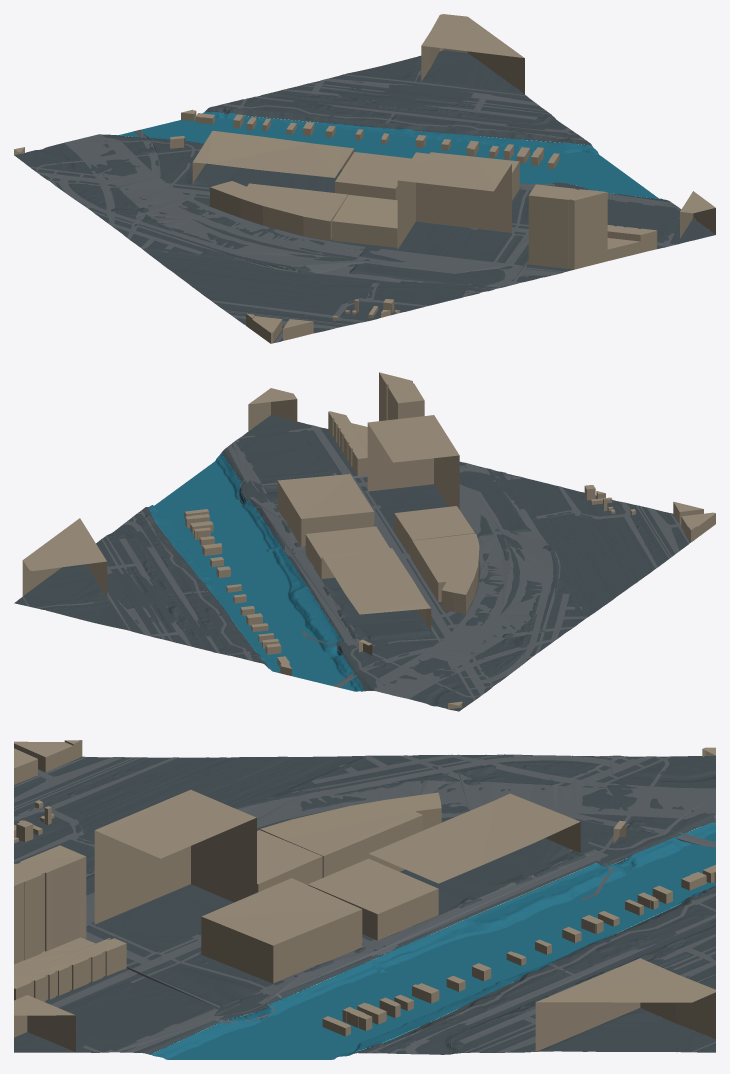
File: epsg26910-1440-10887.lod0.glb
3 views of the same model, one above another, from view 1: azimuth 30°, elevation 25°; view 2: azimuth 150°, elevation 25°; view 3: azimuth 270°, elevation 25° (orthographic). The views are drawn at different scales.
Parts seen in each view (by area): view 1: epsg26910-1440-10887-lod0; view 2: epsg26910-1440-10887-lod0; view 3: epsg26910-1440-10887-lod0.
Part boxes in pixels (x1,y1,x2,y2): epsg26910-1440-10887-lod0: [14, 14, 715, 343]; epsg26910-1440-10887-lod0: [14, 372, 715, 711]; epsg26910-1440-10887-lod0: [14, 740, 715, 1059].
Size of the model in its own units: 384 by 61.37 by 384.
